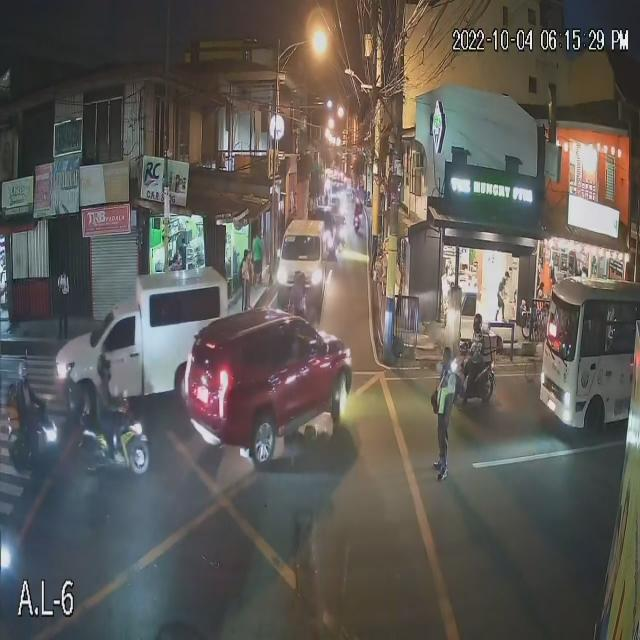helmet: (18, 364, 28, 375), (474, 315, 483, 325)
motorcycle: (82, 426, 153, 475), (6, 415, 61, 471), (443, 354, 497, 402), (354, 205, 365, 230)
rider: (100, 379, 116, 431), (18, 377, 32, 432), (471, 336, 484, 388)
